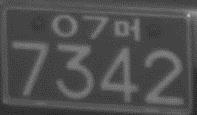0: (50, 13, 79, 38)
2: (143, 48, 185, 105)
3: (56, 43, 94, 101)
4: (100, 45, 139, 103)
7: (10, 40, 51, 96), (82, 14, 109, 40)
머: (113, 17, 140, 42)
